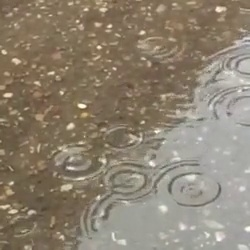drop: (149, 160, 221, 206), (50, 143, 107, 181), (102, 160, 153, 200), (79, 190, 119, 234), (210, 86, 250, 128), (138, 35, 183, 62), (102, 125, 143, 150), (221, 52, 250, 79), (6, 214, 35, 237)
